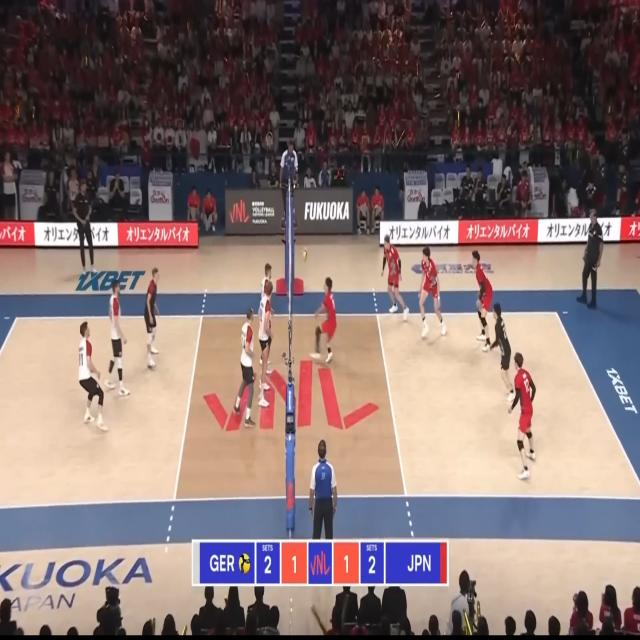ball: (302, 247, 308, 262)
